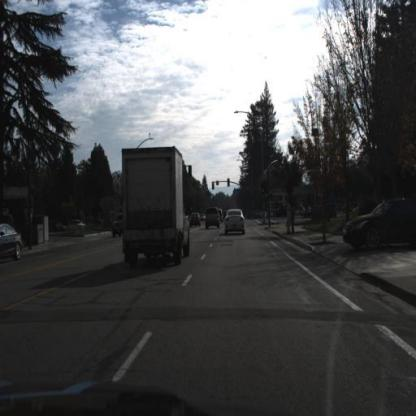car: (343, 195, 416, 247), (1, 223, 25, 265), (226, 209, 247, 237), (111, 208, 127, 240), (111, 212, 127, 240), (68, 218, 90, 234), (206, 208, 221, 231), (51, 219, 66, 237)
truck: (119, 143, 193, 274)
